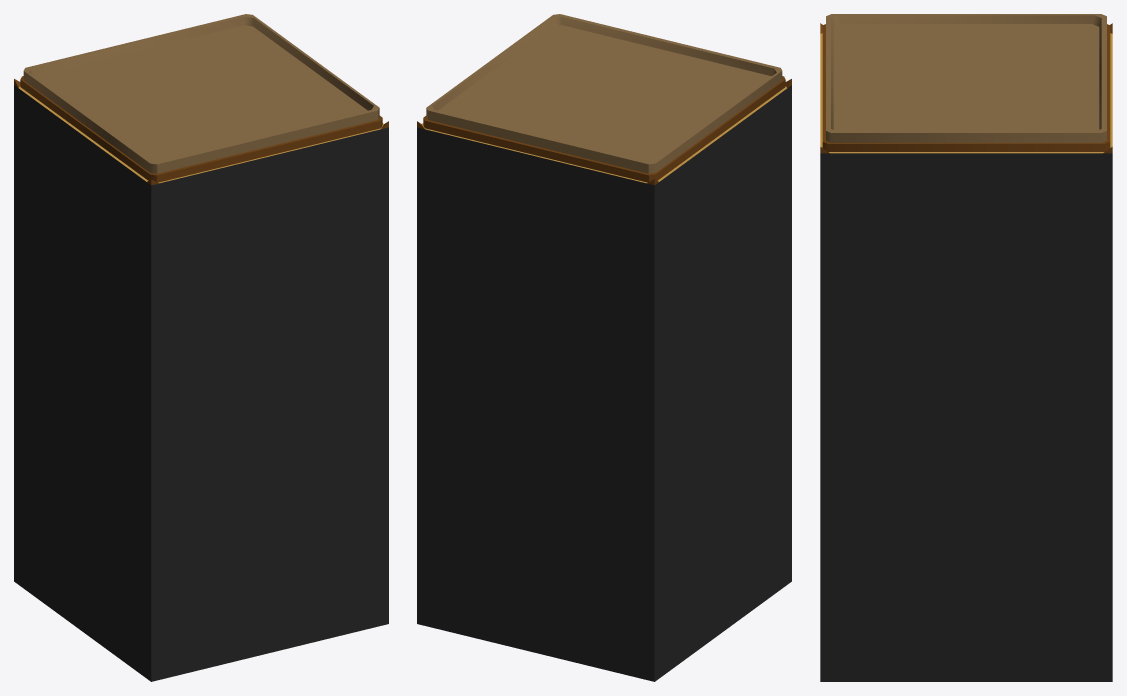
File: SWITCH_NODE.FBX
The picture shows the model from 3 angles, left to right: view 1: azimuth 30°, elevation 25°; view 2: azimuth 150°, elevation 25°; view 3: azimuth 270°, elevation 25°; orthographic projection. The views are drawn at different scales.
Visible parts, largest first — view 1: SWITCH_NODE; view 2: SWITCH_NODE; view 3: SWITCH_NODE.
Boxes of the visible parts, x1=… form: SWITCH_NODE: x1=14, y1=14, x2=388, y2=681; SWITCH_NODE: x1=417, y1=14, x2=791, y2=681; SWITCH_NODE: x1=820, y1=14, x2=1112, y2=681.
Size of the model in its own units: 100 by 100 by 207.
